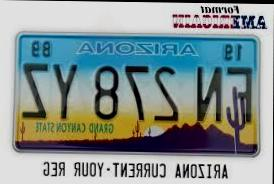License_Plate: (15, 30, 260, 156)
